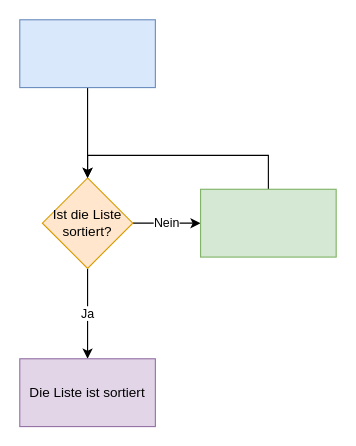
This 356x446 diagram has some shape labels left out. The shapes that lost their labels are listed below. From the top down, each one's centre as x and y in pixels, then its label:
point 87,53: Bogo Sort
point 267,222: Mische die Liste
